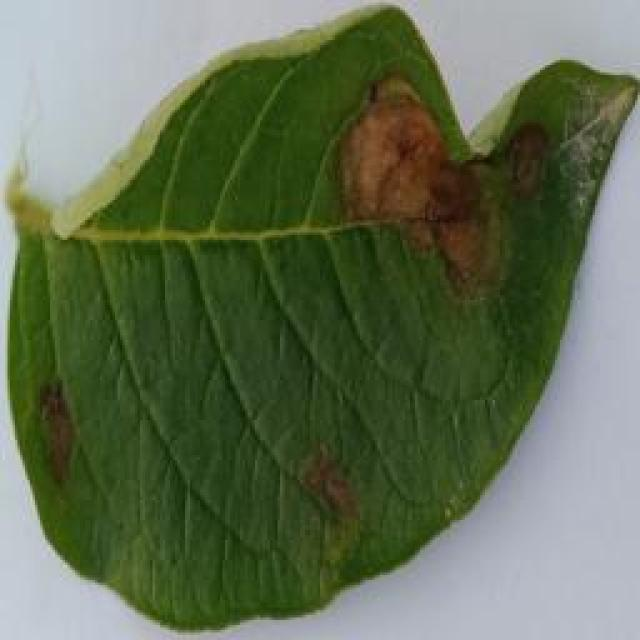Potato_Late_Blight: (8, 6, 631, 634)
